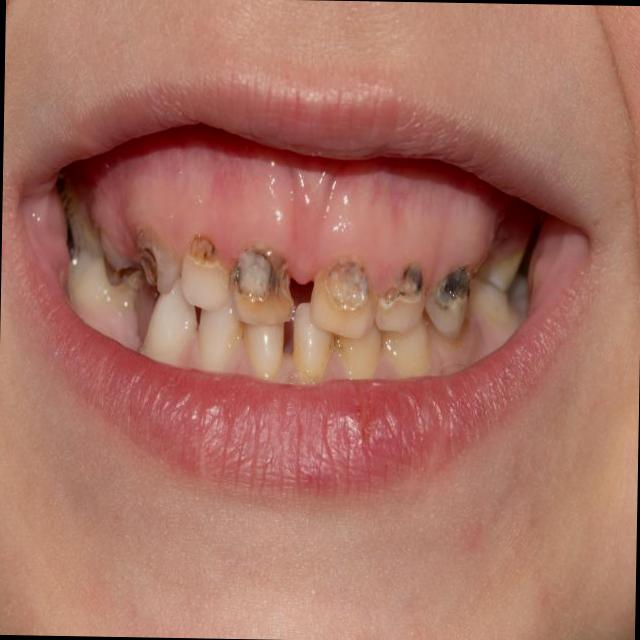caries: (309, 256, 374, 338), (228, 246, 292, 326), (178, 231, 232, 309), (375, 260, 426, 332), (426, 264, 472, 338), (134, 230, 180, 294), (96, 236, 144, 289)
